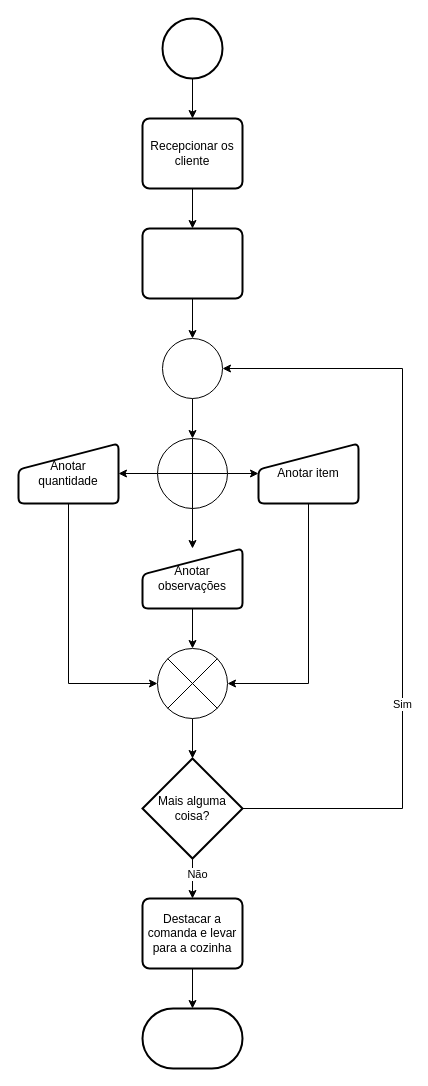
This 428x1086 diagram has some shape labels left out. The shapes that lost their labels are listed below. From the top down, each one's centre as x and y in pixels, then its label:
At (x=192, y=48): "Início".
At (x=192, y=263): "Anotar a hora e os minutos.".
At (x=192, y=1038): "Fim".
